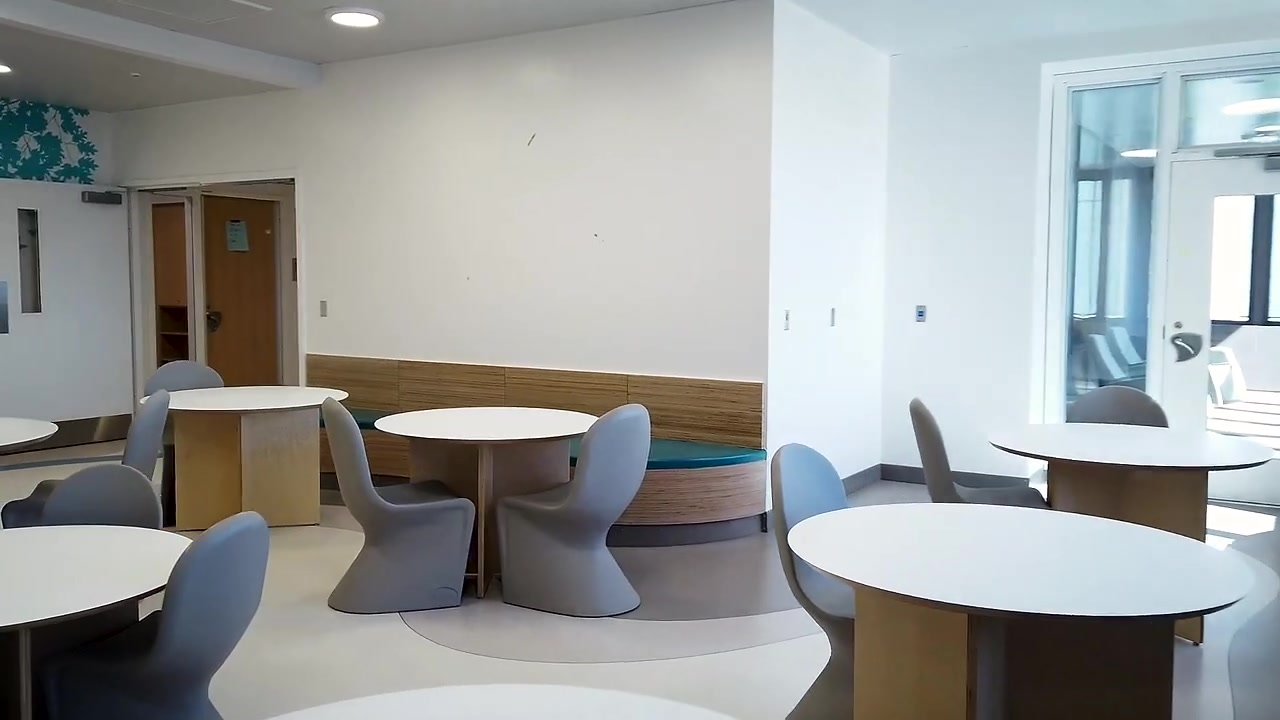chair: (291, 352, 766, 530), (50, 510, 270, 720), (321, 396, 477, 617), (495, 404, 652, 618), (772, 444, 876, 720), (1, 389, 172, 522), (908, 397, 1050, 511), (39, 463, 164, 529), (1065, 387, 1170, 430), (1086, 333, 1146, 392), (142, 360, 227, 396), (1104, 326, 1147, 378)
door_handle: (1172, 330, 1205, 363), (205, 305, 222, 331)
sofa: (319, 407, 766, 526)
table: (786, 502, 1252, 720), (990, 428, 1280, 650), (373, 407, 601, 600), (1, 524, 194, 720), (130, 386, 349, 531), (1, 415, 58, 456)
